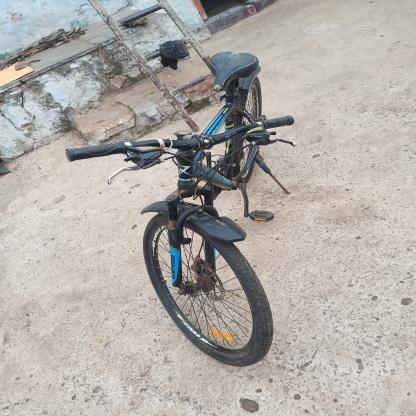bike: (48, 44, 340, 374)
